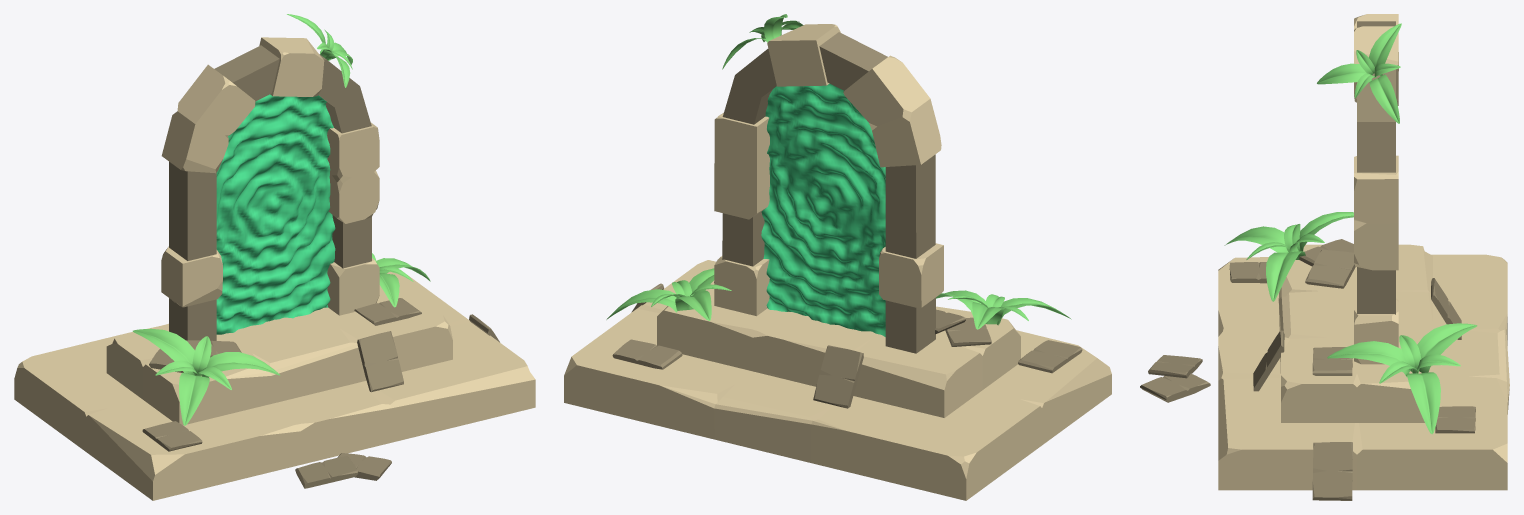
Rendered from potal.fbx.
3 views of the same model, side by side, from view 1: azimuth 30°, elevation 25°; view 2: azimuth 150°, elevation 25°; view 3: azimuth 270°, elevation 25° (orthographic). The views are drawn at different scales.
Parts seen in each view (by area): view 1: Основание ниже, Портал, Кирпичи, Арка, Растение, Плитка.005, Плитка.008, Плитка.003, Плитка.002, Растение.001, Растение.002, Плитка.009; view 2: Основание ниже, Портал, Кирпичи, Арка, Плитка.006, Растение.001, Растение, Плитка.007, Плитка.003, Плитка, Растение.002; view 3: Основание ниже, Кирпичи, Арка, Растение.001, Растение, Растение.002, Плитка.004, Плитка.001, Плитка.009, Плитка.007, Плитка.002, Плитка.008 (+4 smaller).
Part boxes in pixels (x1,y1,x2,y2): Основание ниже: [14, 271, 535, 500]; Портал: [216, 94, 335, 334]; Кирпичи: [161, 37, 379, 315]; Арка: [169, 45, 371, 340]; Растение: [132, 328, 280, 425]; Плитка.005: [357, 331, 403, 392]; Плитка.008: [295, 456, 358, 488]; Плитка.003: [142, 421, 202, 451]; Плитка.002: [354, 298, 421, 325]; Растение.001: [372, 253, 430, 307]; Растение.002: [287, 14, 352, 87]; Плитка.009: [337, 453, 391, 480]; Основание ниже: [564, 260, 1111, 500]; Портал: [761, 83, 885, 336]; Кирпичи: [714, 24, 943, 316]; Арка: [722, 32, 935, 353]; Плитка.006: [813, 345, 863, 408]; Растение.001: [606, 268, 731, 320]; Растение: [936, 290, 1071, 329]; Плитка.007: [612, 339, 682, 369]; Плитка.003: [1018, 340, 1082, 373]; Плитка: [945, 317, 991, 346]; Растение.002: [722, 14, 803, 69]; Основание ниже: [1218, 244, 1509, 490]; Кирпичи: [1354, 14, 1398, 364]; Арка: [1357, 21, 1395, 314]; Растение.001: [1327, 323, 1477, 434]; Растение: [1224, 212, 1353, 301]; Растение.002: [1317, 23, 1401, 123]; Плитка.004: [1312, 442, 1352, 500]; Плитка.001: [1305, 249, 1355, 288]; Плитка.009: [1140, 373, 1210, 402]; Плитка.007: [1435, 406, 1475, 433]; Плитка.002: [1312, 347, 1352, 375]; Плитка.008: [1148, 355, 1202, 378].
Size of the model in its own units: 644 by 559 by 486.
